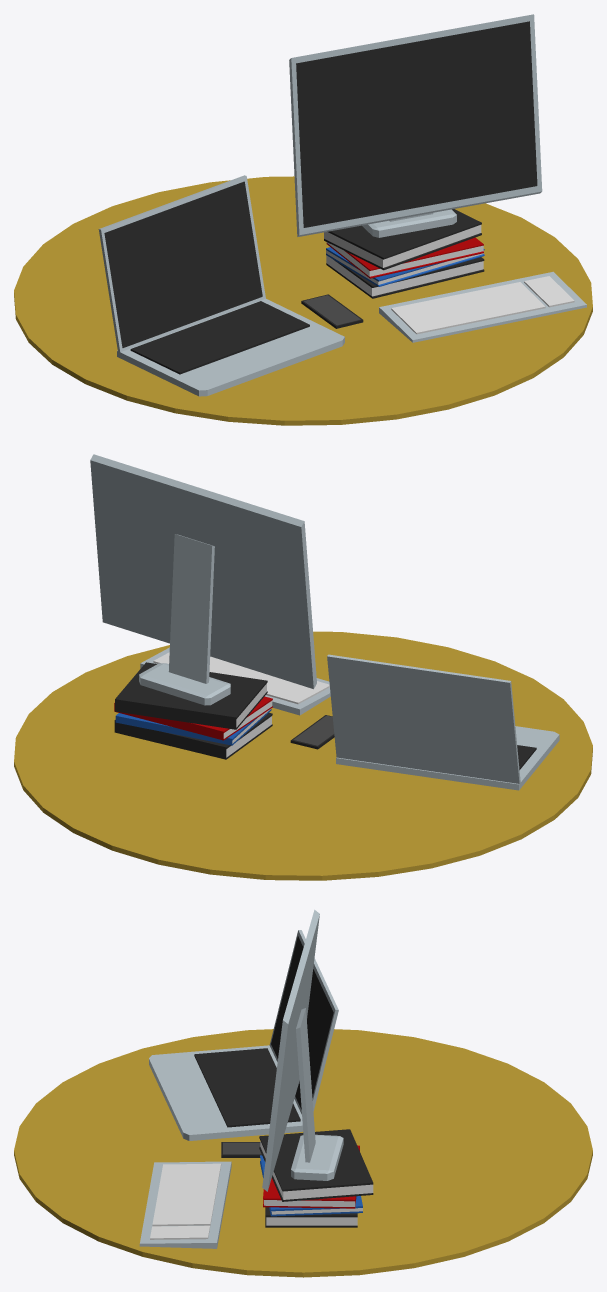
File: office.glb
The picture shows the model from 3 angles, top to bottom: view 1: azimuth 30°, elevation 25°; view 2: azimuth 150°, elevation 25°; view 3: azimuth 270°, elevation 25°; orthographic projection.
Visible parts, largest first — view 1: Cylinder, monitor.001, pc-monitor, pc-keyboard, keyboard, book4, book1, book3, Cube.001, book2, phone; view 2: Cylinder, monitor.001, pc-monitor, Cube, book4, pc-keyboard, keyboard, book1, Cube.001, book3, book2, phone; view 3: Cylinder, pc-keyboard, keyboard, monitor.001, book4, pc-monitor, Cube.001, Cube, book1, book3, book2, phone.
Part boxes in pixels (x1,y1,x2,y2): Cylinder: (14,176,592,425); monitor.001: (289,14,542,236); pc-monitor: (98,175,265,352); pc-keyboard: (117,298,344,396); keyboard: (379,271,586,342); book4: (324,209,481,270); book1: (326,255,484,298); book3: (326,237,483,278); Cube.001: (362,209,456,237); book2: (326,247,484,286); phone: (301,294,363,328); Cylinder: (14,631,592,880); monitor.001: (90,454,316,689); pc-monitor: (327,654,520,783); Cube: (168,534,214,683); book4: (115,662,267,729); pc-keyboard: (336,726,559,790); keyboard: (140,647,330,715); book1: (114,712,272,759); Cube.001: (139,663,230,705); book3: (114,696,272,740); book2: (115,709,271,745); phone: (290,715,334,749); Cylinder: (14,1029,592,1277); pc-keyboard: (149,1045,303,1140); keyboard: (139,1161,231,1248); monitor.001: (262,909,319,1191); book4: (259,1129,373,1201); pc-monitor: (269,930,338,1114); Cube.001: (291,1134,343,1180); Cube: (296,1008,315,1162); book1: (265,1207,357,1227); book3: (263,1145,359,1208); book2: (260,1155,362,1216); phone: (221,1142,261,1157).
Size of the model in its own units: 6 by 2.77 by 6.
